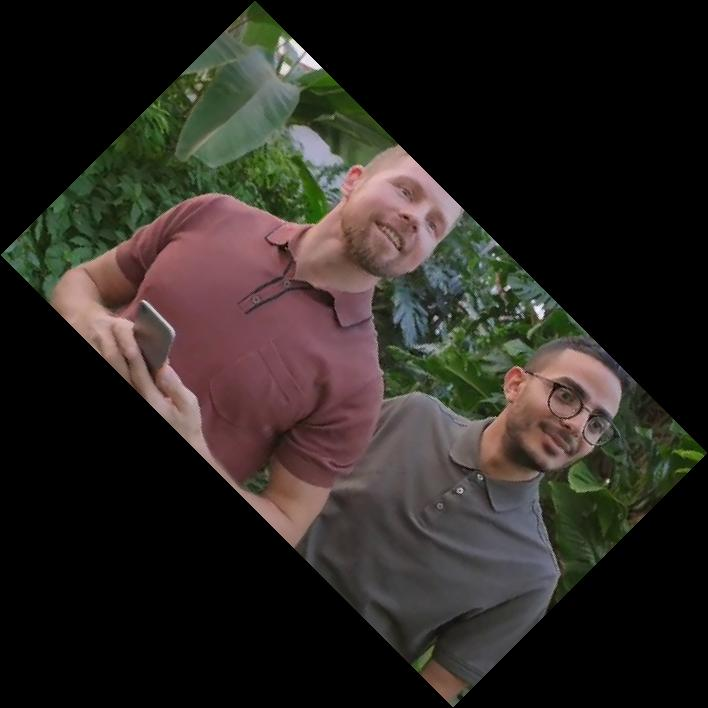phone: (130, 296, 177, 383)
